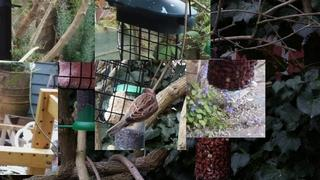sparrow: (106, 86, 160, 138)
